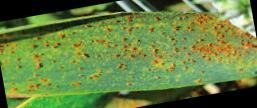Wheat: (2, 35, 174, 73), (178, 38, 253, 75), (84, 17, 178, 33), (9, 76, 87, 92), (182, 16, 235, 35)
